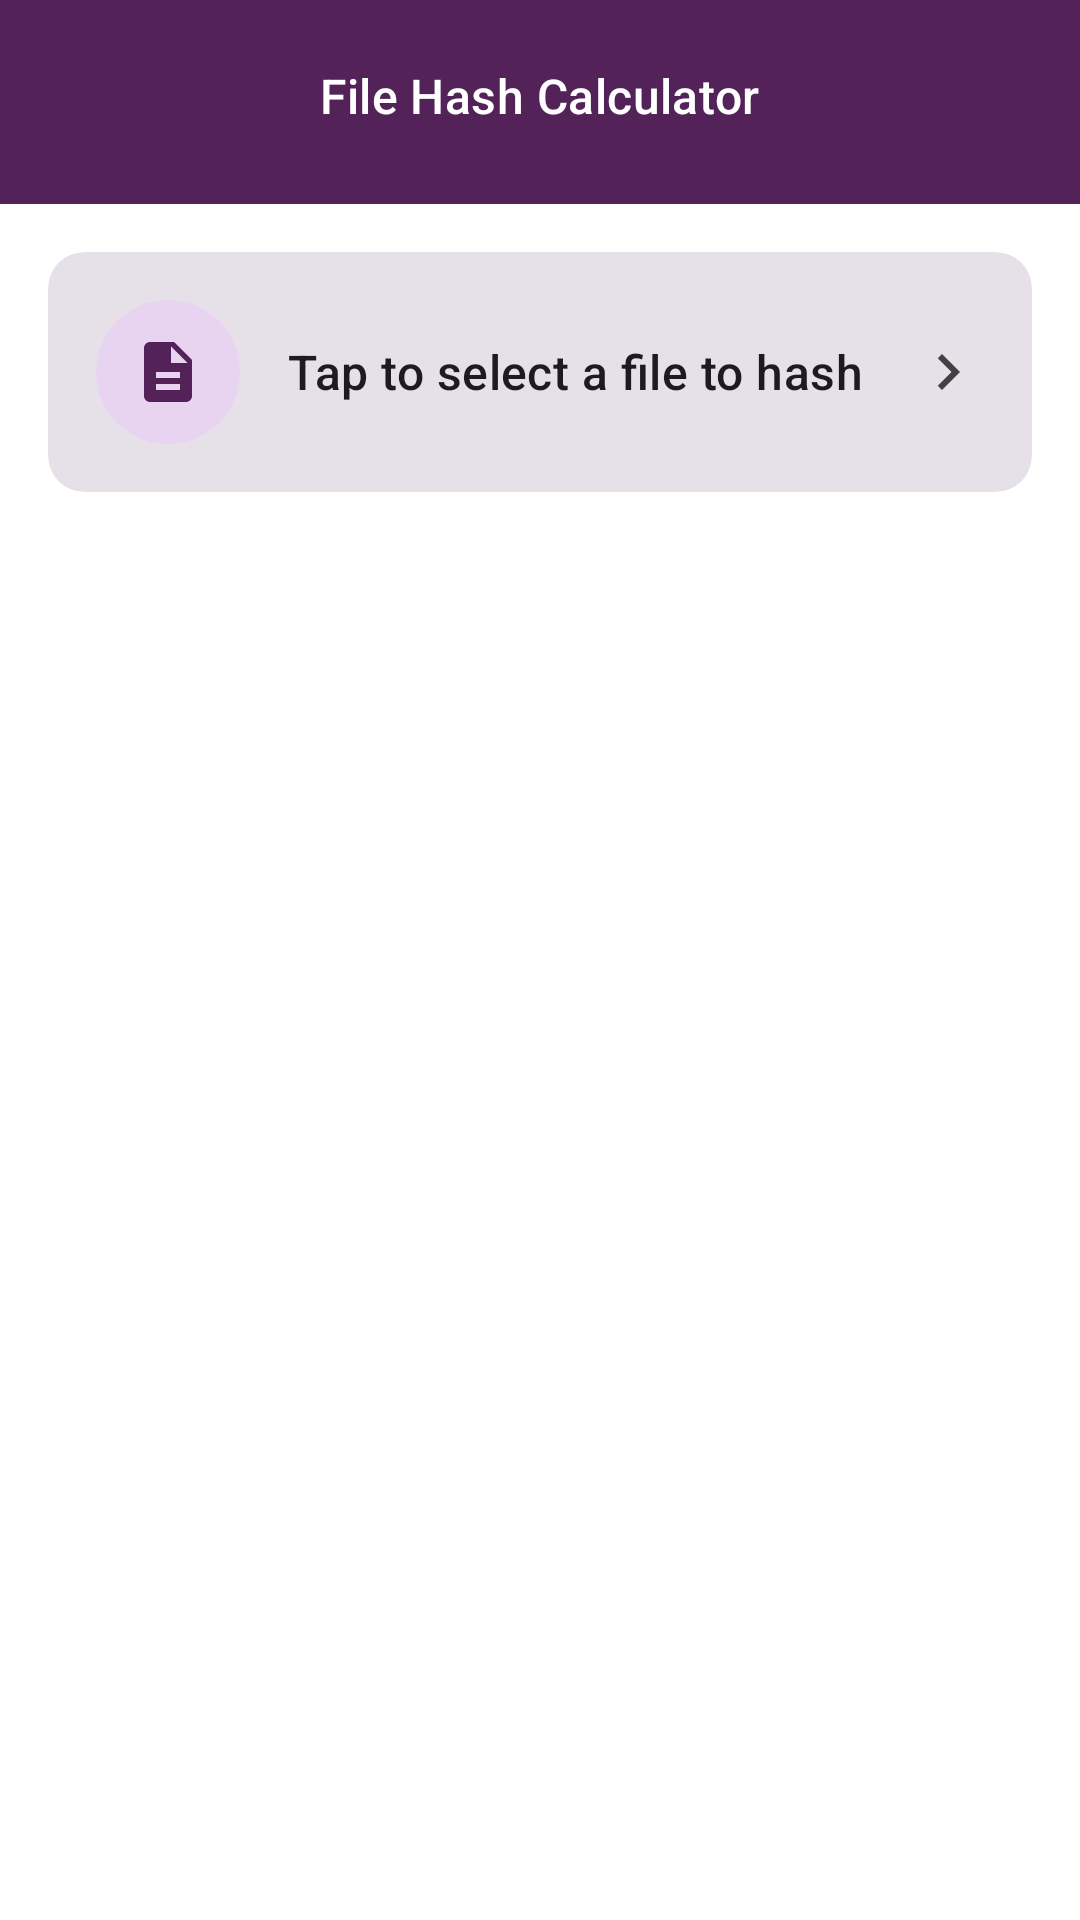

Named icons in this screenshot (1080 × 1920) and their centers, (x=x, y=y):
file document: (x=168, y=372)
navigate next: (x=949, y=372)
